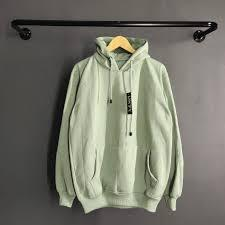sweater: (59, 35, 184, 209)
